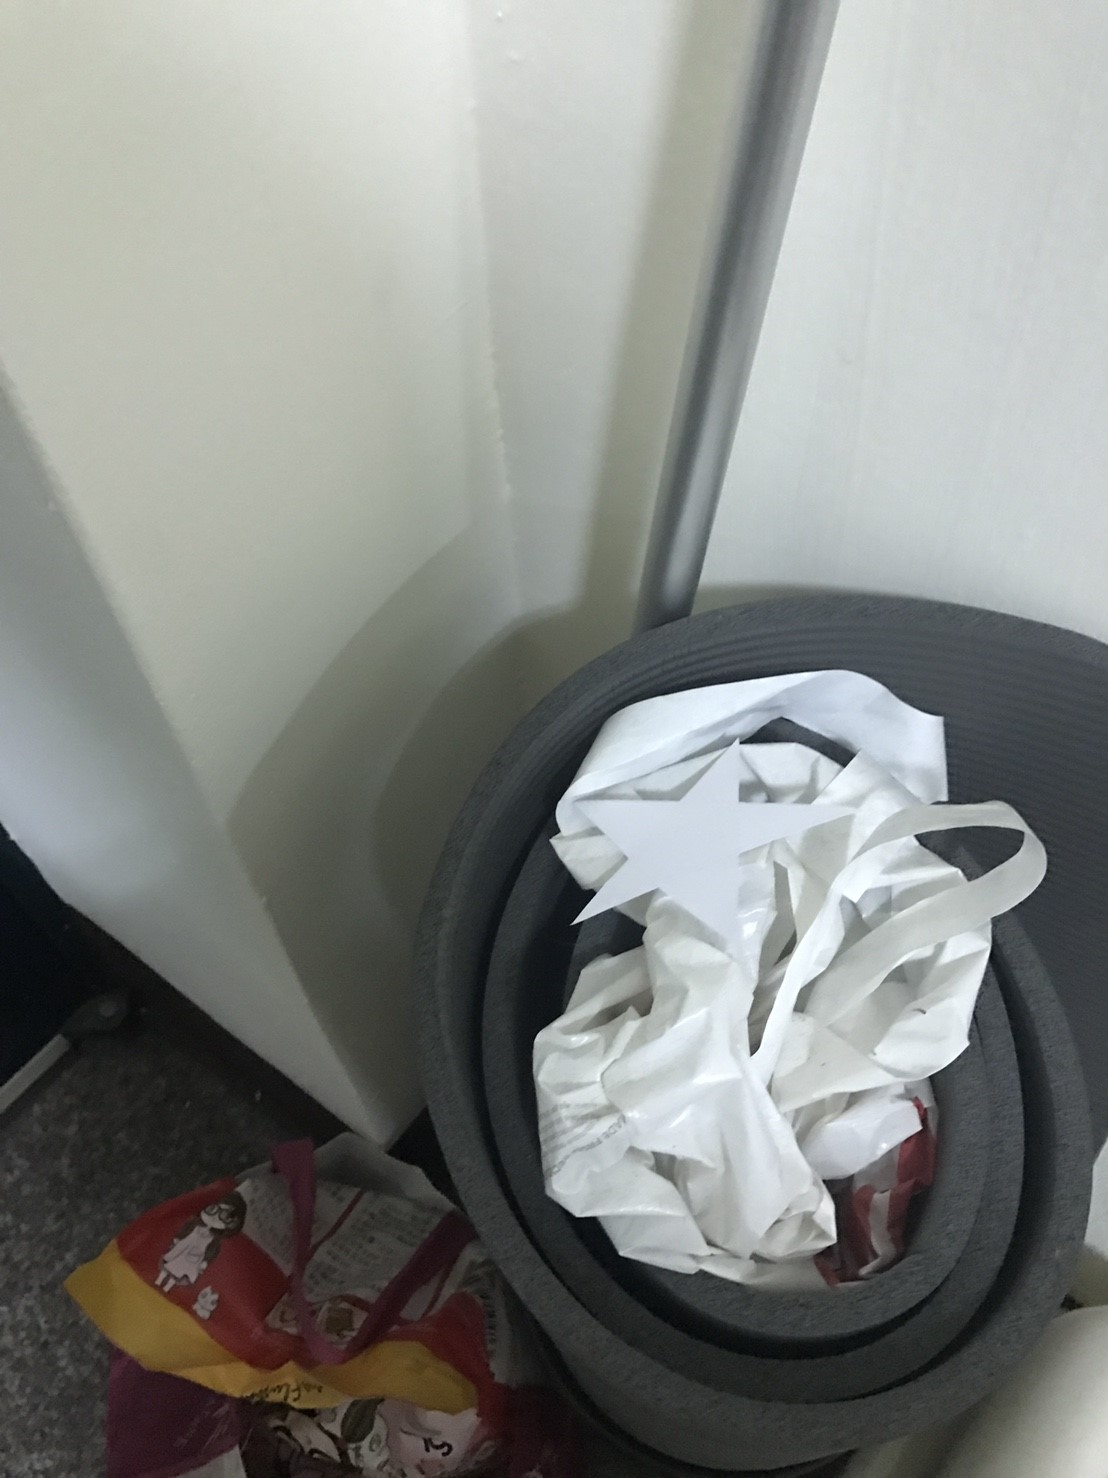star: (569, 718, 862, 950)
